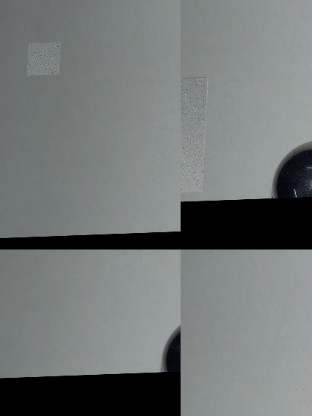ironball: (264, 140, 310, 199), (160, 323, 180, 372)
